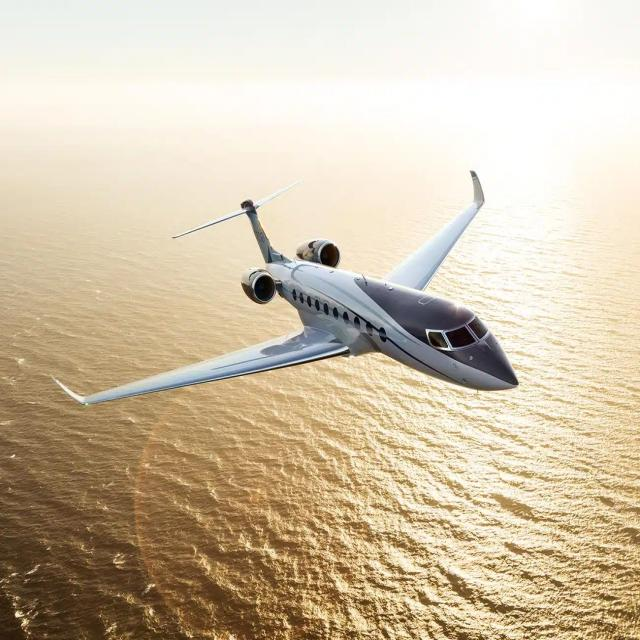jet: (27, 130, 580, 498)
